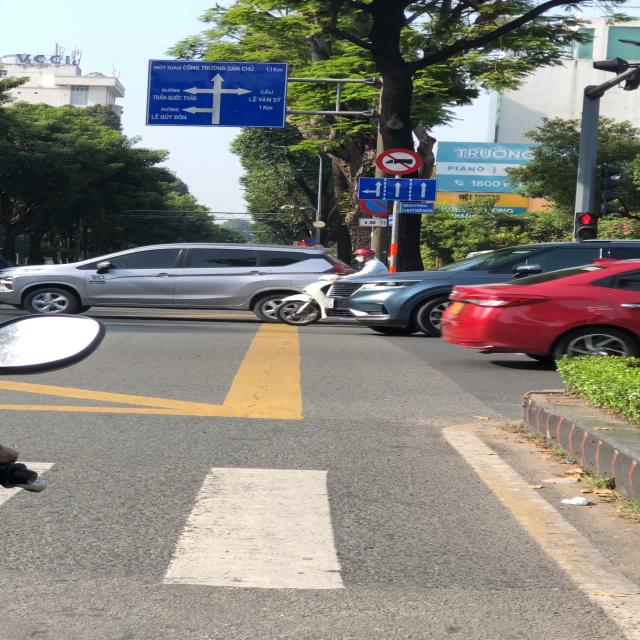Bien bao cam xe so-mi ro-mooc: (374, 147, 427, 177)
